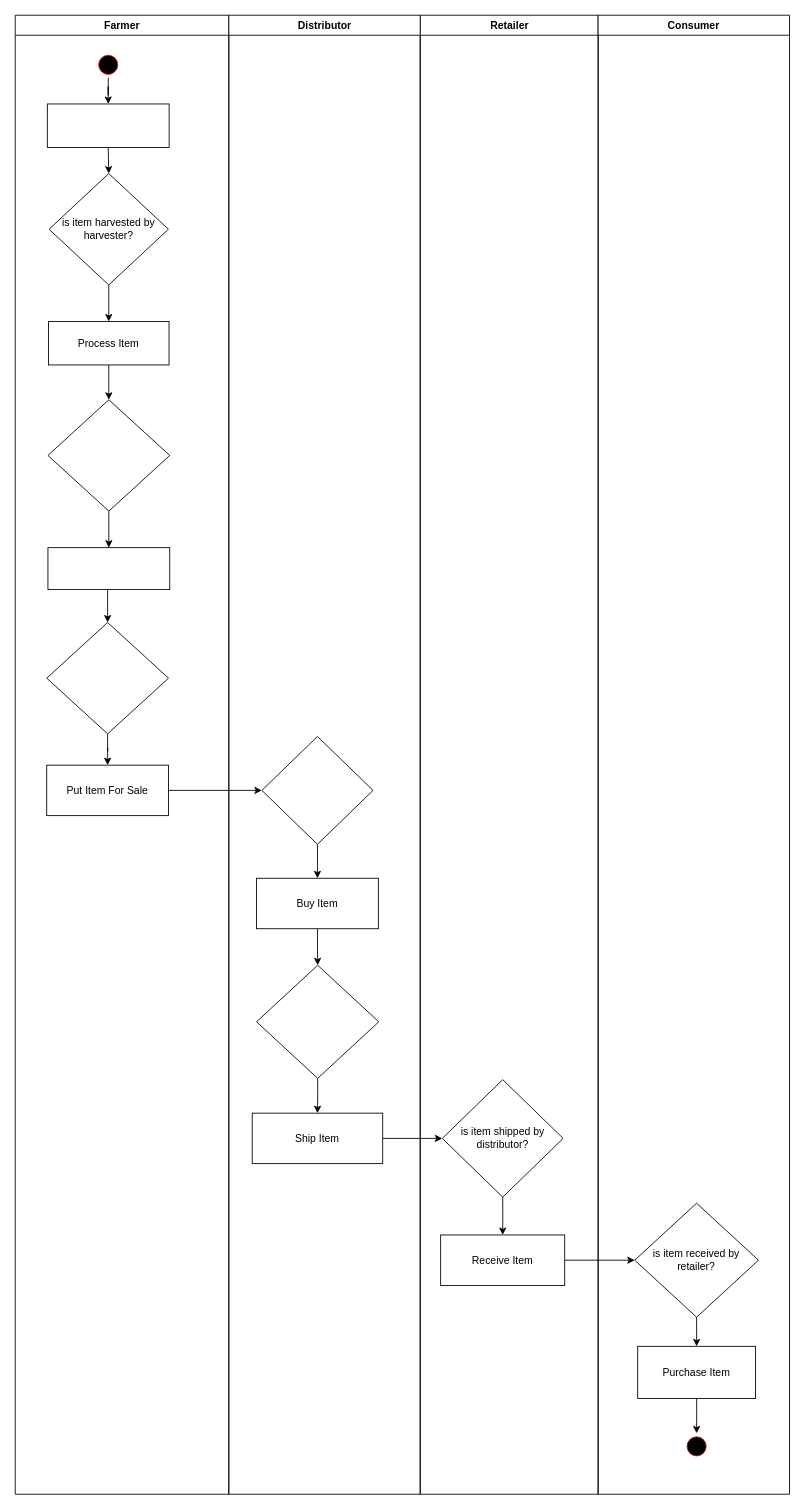
The diagram is 805 pixels wide and 1509 high, and some of its shapes have lost their labels. Each missing label, with the centre of its shape:
"Harvest Item" goes at [107,125].
"is item bought by distributor?" goes at [317,1021].
"is item for sale by harvester?" goes at [317,790].
"is item packed by harvester?" goes at [107,678].
"is item processed by harvester?" goes at [108,455].
"Pack Item" goes at [108,568].
